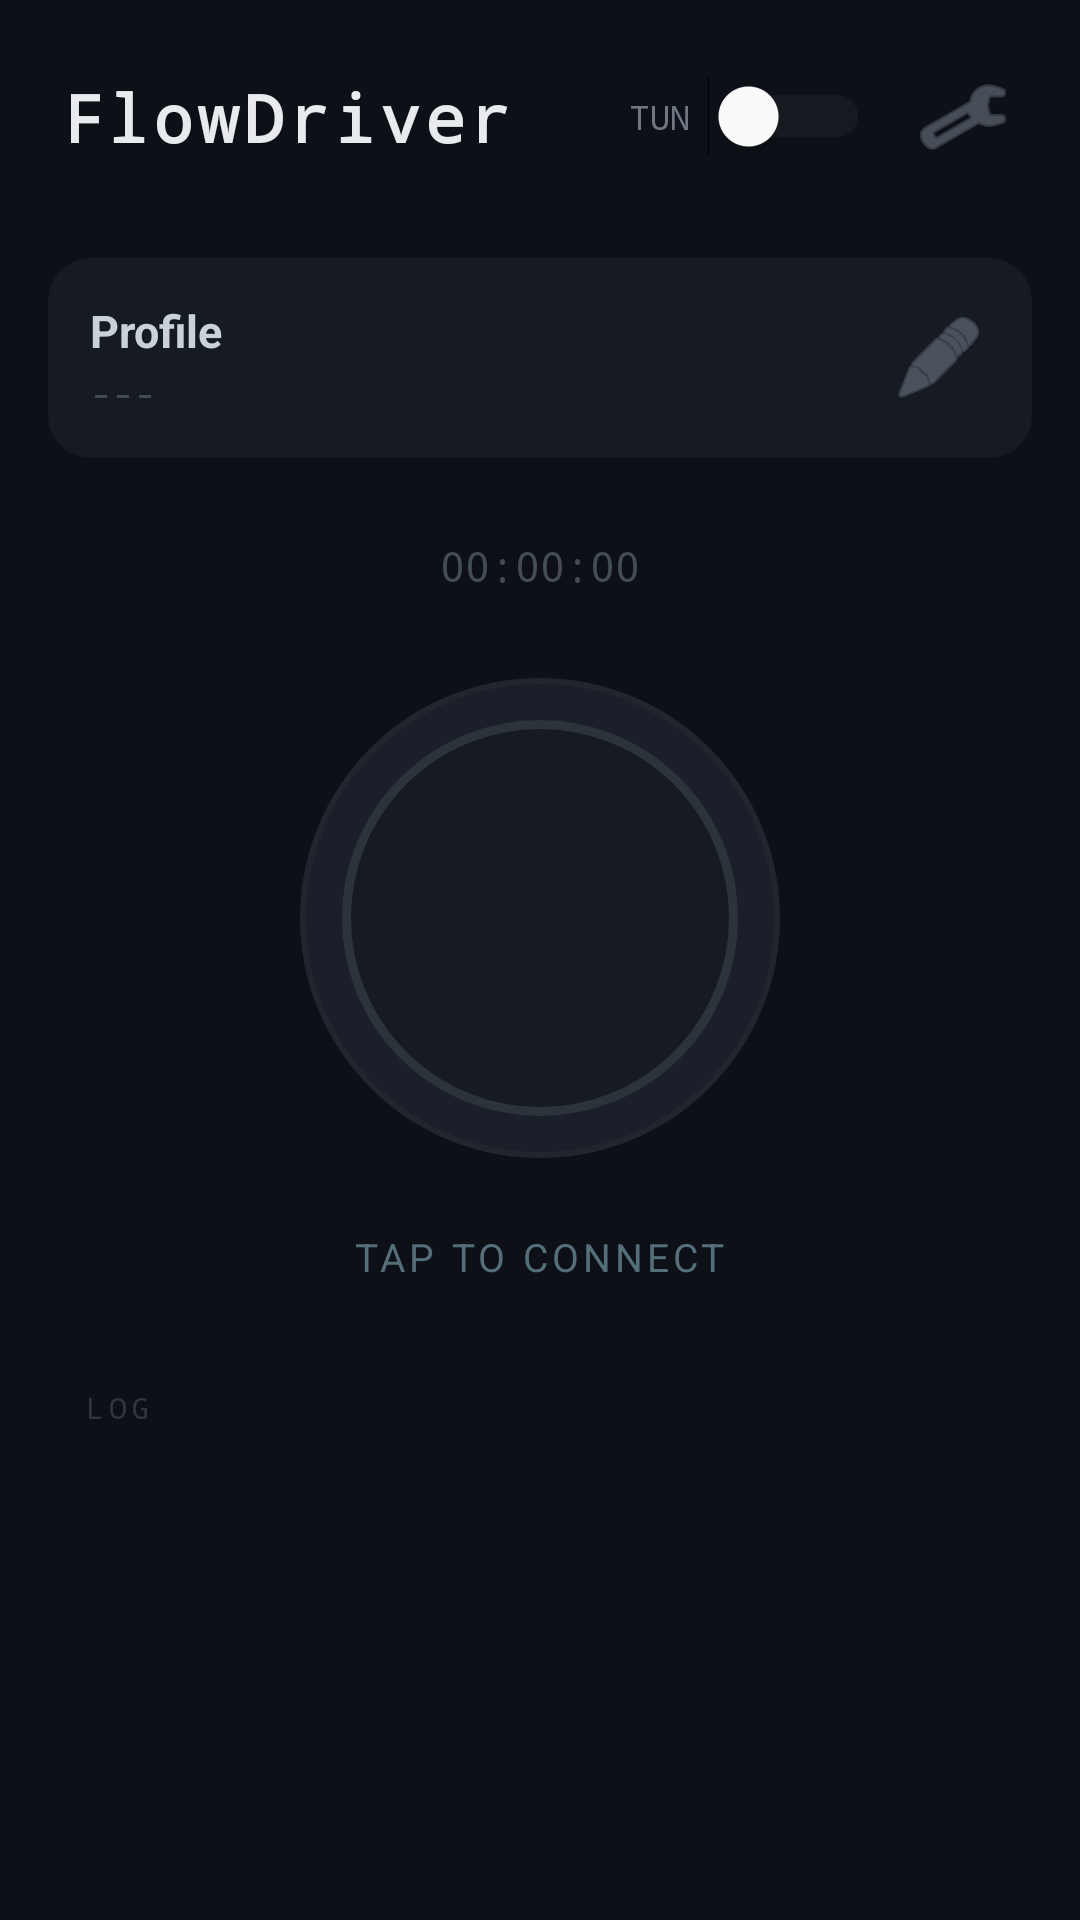

Icons on this 1080px×1920px Android screen, each with the point to tap as point (x, y):
Edit profile: point (938, 357)
